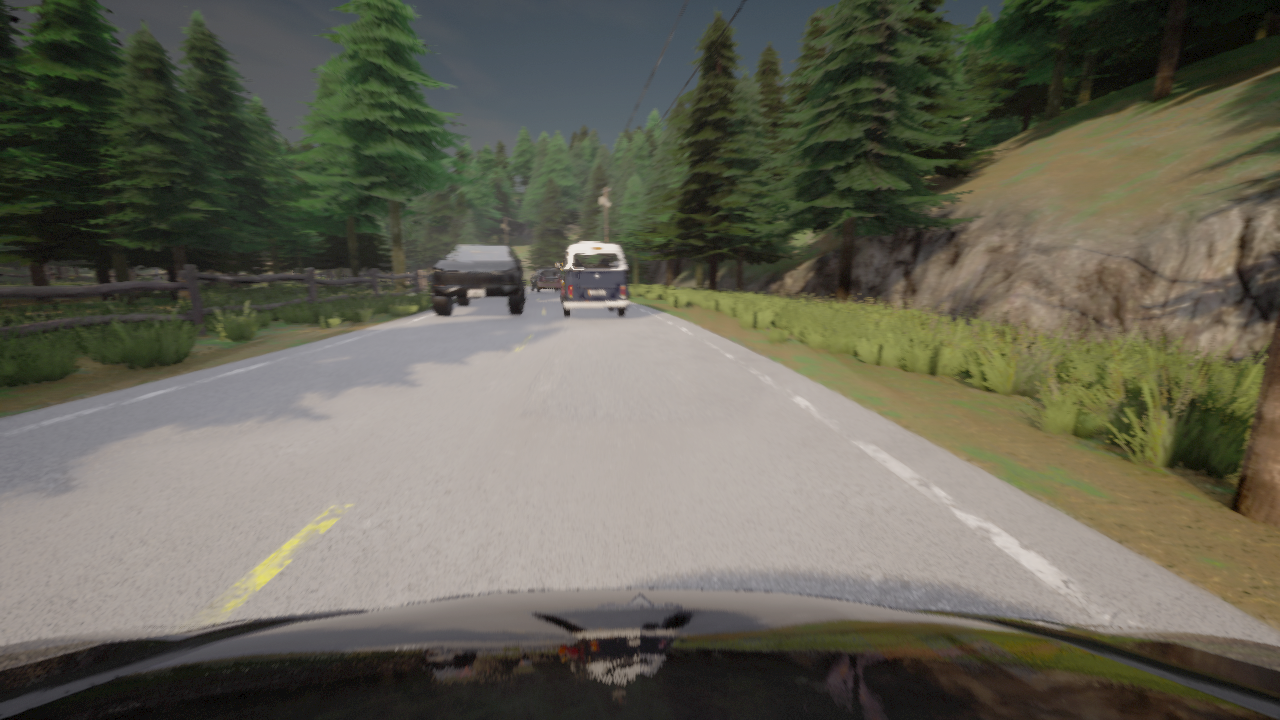cyclist: (0, 588, 1279, 719), (430, 244, 526, 316), (555, 242, 629, 317), (529, 269, 561, 292), (406, 272, 432, 281)
